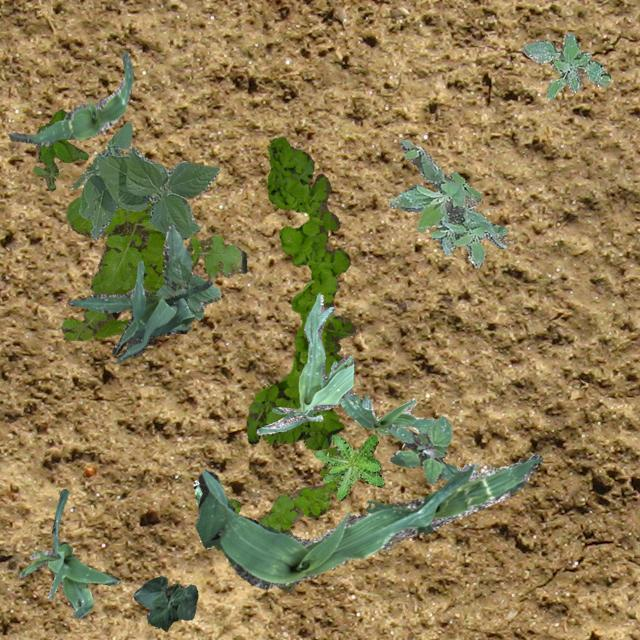crop: (194, 452, 542, 588), (70, 122, 218, 238), (67, 260, 212, 362), (255, 292, 352, 433), (19, 488, 120, 616), (7, 49, 132, 144), (330, 359, 434, 434), (154, 224, 220, 334), (132, 576, 196, 630), (192, 478, 202, 506)
weed: (246, 136, 354, 448), (61, 196, 246, 340), (227, 446, 341, 592), (388, 138, 507, 266), (522, 32, 608, 98), (386, 414, 458, 482), (312, 434, 383, 499), (32, 109, 88, 190)
